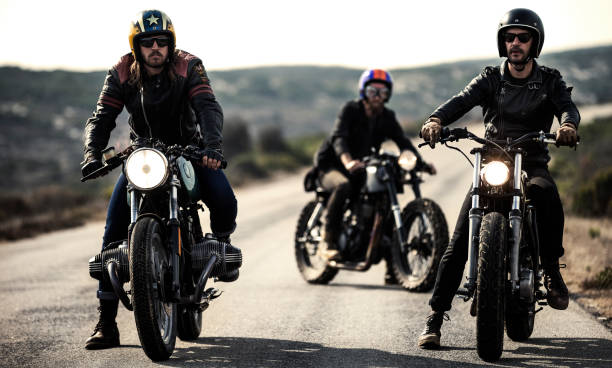helmet: (127, 6, 177, 66), (495, 7, 546, 62), (355, 66, 395, 109)
person: (77, 4, 226, 155), (423, 6, 580, 137), (315, 54, 400, 264)
